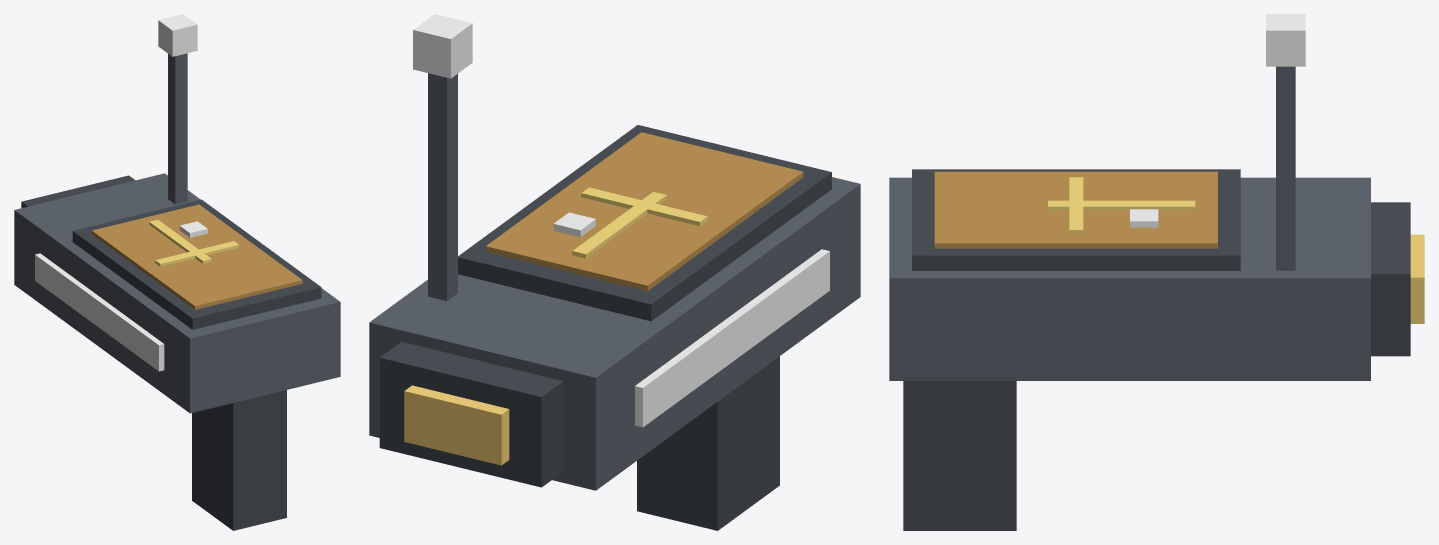
Rendered from LOCATOR.gltf.
3 views of the same model, side by side, from view 1: azimuth 30°, elevation 25°; view 2: azimuth 150°, elevation 25°; view 3: azimuth 270°, elevation 25° (orthographic). The views are drawn at different scales.
Visible parts, largest first — view 1: LOCATOR; view 2: LOCATOR; view 3: LOCATOR.
Boxes of the visible parts, left/top/right/bottom form: LOCATOR: left=14, top=14, right=340, bottom=530; LOCATOR: left=369, top=14, right=860, bottom=530; LOCATOR: left=889, top=14, right=1424, bottom=530.
Bounding box in the file's own units: 0.087 × 0.206 × 0.189.
